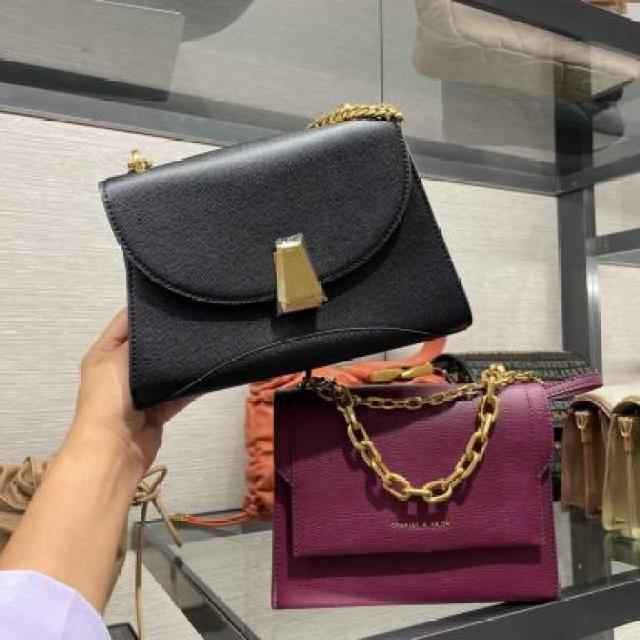Bag: (97, 107, 535, 425), (254, 369, 592, 626)
